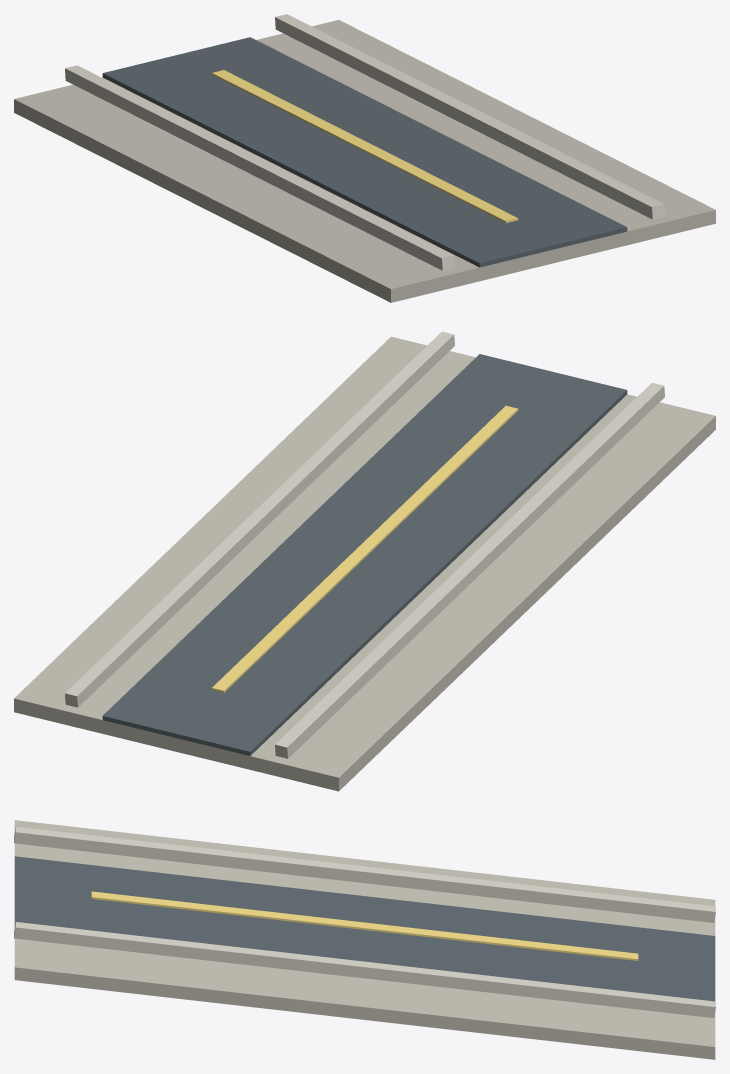
File: ROAD_LOCAL_SLOPE_1x2_DOWN_050.glb
The picture shows the model from 3 angles, top to bottom: view 1: azimuth 30°, elevation 25°; view 2: azimuth 150°, elevation 25°; view 3: azimuth 270°, elevation 25°; orthographic projection. The views are drawn at different scales.
Parts seen in each view (by area): view 1: ROAD_LOCAL_SLOPE_1x2_DOWN_050_Visual; view 2: ROAD_LOCAL_SLOPE_1x2_DOWN_050_Visual; view 3: ROAD_LOCAL_SLOPE_1x2_DOWN_050_Visual.
Part boxes in pixels (x1,y1,x2,y2): ROAD_LOCAL_SLOPE_1x2_DOWN_050_Visual: (14,14,715,302); ROAD_LOCAL_SLOPE_1x2_DOWN_050_Visual: (14,331,715,791); ROAD_LOCAL_SLOPE_1x2_DOWN_050_Visual: (14,820,715,1059).
Size of what is drawn, in the model's own units: 1.98 by 0.6847 by 3.99.
